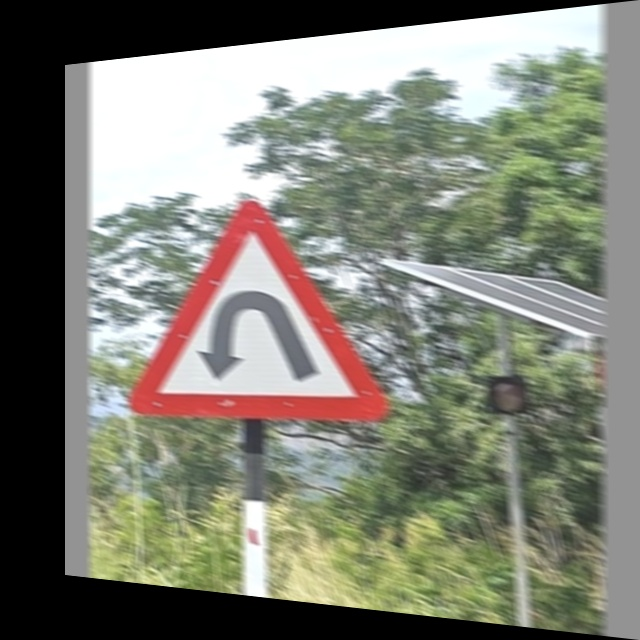Left_Hair_Pin_Bend: (125, 193, 393, 422)
